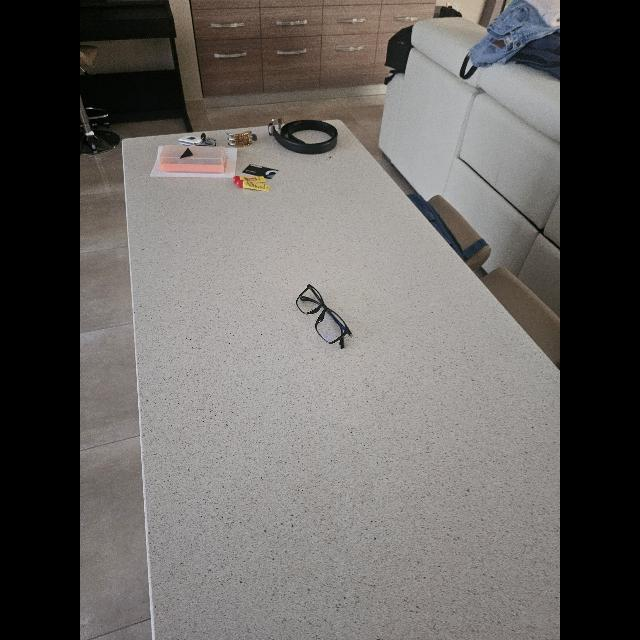glasses: (296, 284, 352, 348)
